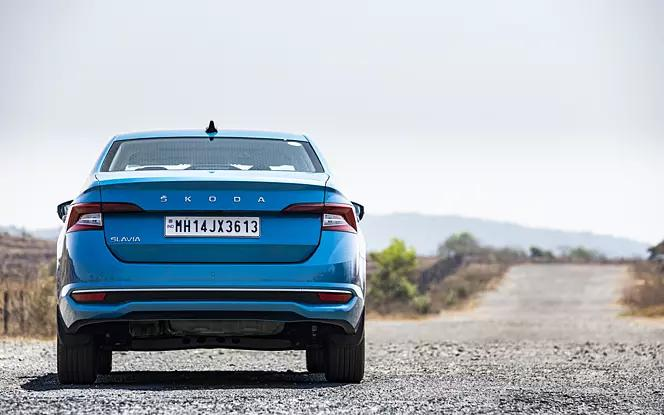LightVehicle: (54, 117, 368, 387)
